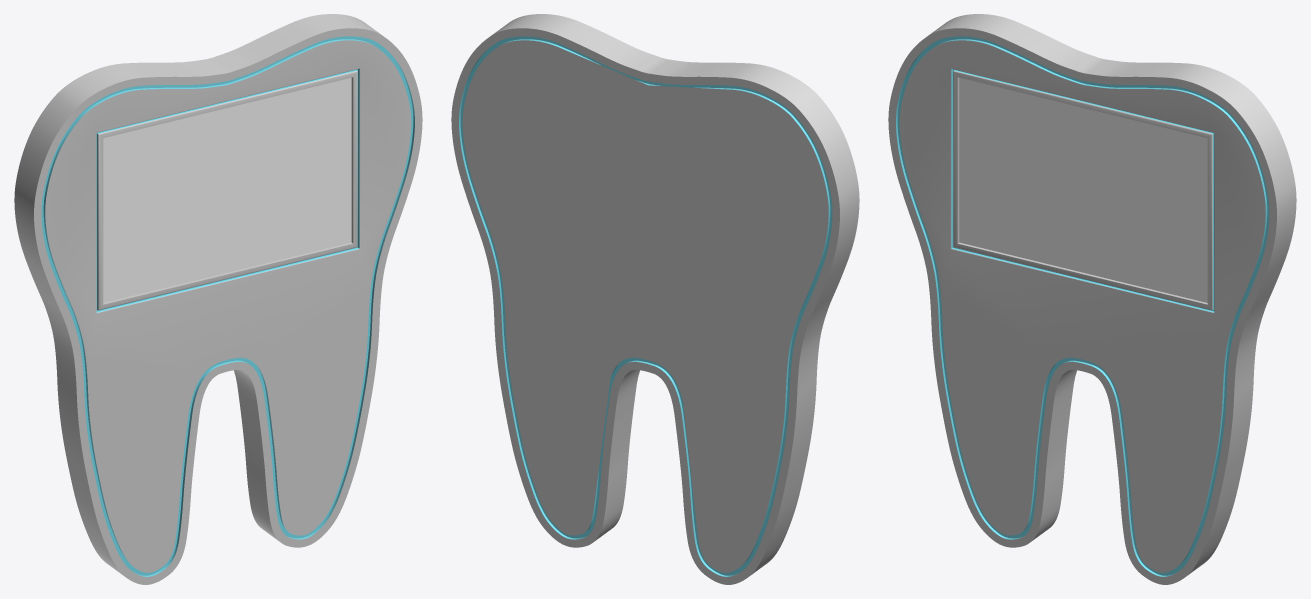
File: ToothLCD.fbx
The picture shows the model from 3 angles, left to right: view 1: azimuth 30°, elevation 25°; view 2: azimuth 150°, elevation 25°; view 3: azimuth 330°, elevation 25°; orthographic projection.
Visible parts, largest first — view 1: ToothLCD; view 2: ToothLCD; view 3: ToothLCD.
Part boxes in pixels (box(x1,y1,x2,y2)): ToothLCD: box(14, 14, 422, 584); ToothLCD: box(451, 14, 859, 584); ToothLCD: box(888, 14, 1296, 584).
Bounding box in the file's own units: 224 × 281 × 19.51.
